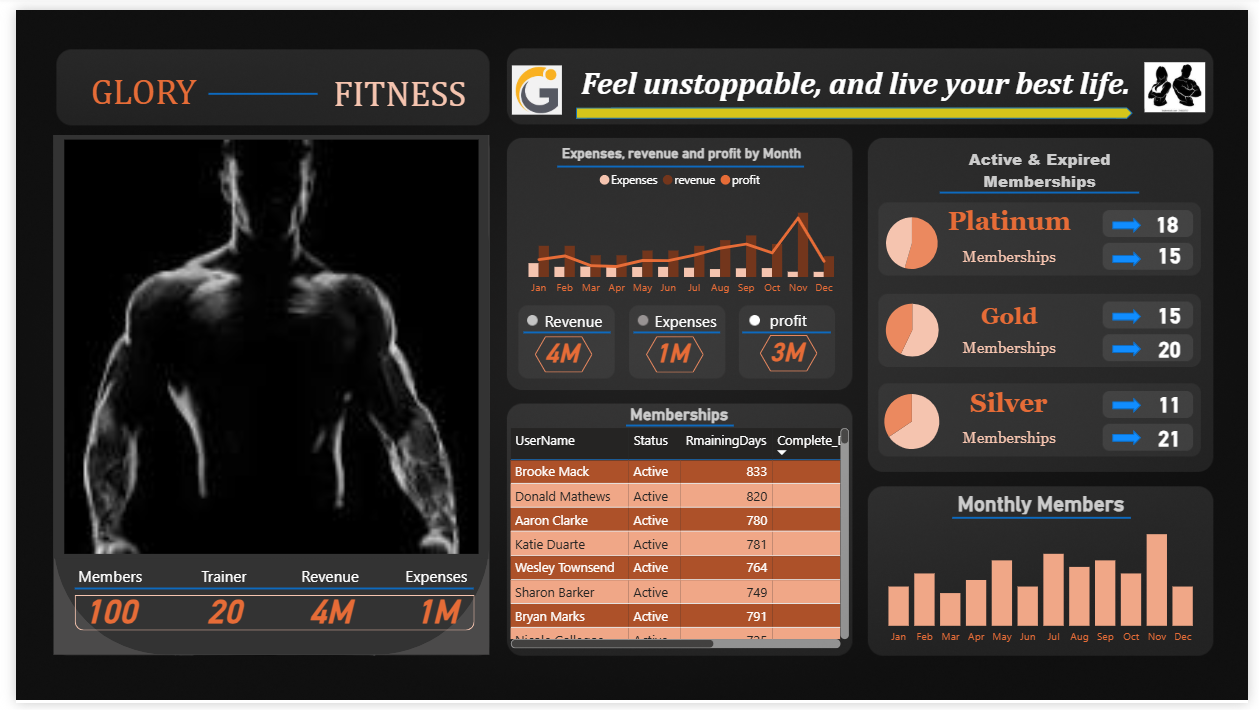

The dashboard page shown, as its layout file describes it:
{"tool":"powerbi","page":{"name":"Page 1","canvas":[1280,720],"ordinal":0},"visuals":[{"type":"cardVisual","fields":{"Data":["_Measures.revenue"]},"box":[532,295,96,81],"z":0},{"type":"shape","box":[1138.5,310,30,16.2],"z":0,"group":"g3"},{"type":"shape","box":[1138.5,402.3,30,16.2],"z":0,"group":"g4"},{"type":"cardVisual","fields":{"Data":["_Measures.users_count"]},"box":[45,550,105.3,118.5],"z":0,"group":"g2"},{"type":"cardVisual","fields":{"Data":["_Measures.users_count"]},"box":[48.3,550,105,95],"z":0,"group":"g1"},{"type":"cardVisual","fields":{"Data":["_Measures.Expenses"]},"box":[647.3,294.7,100,86.7],"z":1000},{"type":"shape","box":[1138.5,343.8,30,16.2],"z":1000,"group":"g3"},{"type":"shape","box":[1138.5,436.1,30,16.2],"z":1000,"group":"g4"},{"type":"cardVisual","fields":{"Data":["Count(Users.Trainer Name)"]},"box":[163.7,550,105.3,118.5],"z":1000,"group":"g2"},{"type":"cardVisual","fields":{"Data":["Count(Users.Trainer Name)"]},"box":[166.6,550,105,95],"z":1000,"group":"g1"},{"type":"cardVisual","fields":{"Data":["_Measures.profit"]},"box":[766,293,100,87],"z":2000},{"type":"cardVisual","fields":{"Data":["_Measures.revenue"]},"box":[273.8,550,105,118.1],"z":2000,"group":"g2"},{"type":"cardVisual","fields":{"Data":["_Measures.revenue"]},"box":[276.4,550,104.7,94.7],"z":2000,"group":"g1"},{"type":"lineClusteredColumnComboChart","fields":{"Y":["_Measures.Expenses","_Measures.revenue"],"Y2":["_Measures.profit"],"Category":["calender.Month"]},"box":[516.7,140.7,349.3,165.3],"z":3000},{"type":"cardVisual","fields":{"Data":["_Measures.Expenses"]},"box":[383.5,550,105.6,118.1],"z":3000,"group":"g2"},{"type":"cardVisual","fields":{"Data":["_Measures.Expenses"]},"box":[385.8,550,105.3,94.7],"z":3000,"group":"g1"},{"type":"group","id":"g1","title":"Group 1","box":[48.3,550,442.8,95],"z":4000},{"type":"shape","box":[38.6,130,452.9,540],"z":5000},{"type":"group","id":"g2","title":"Group 1","box":[45,550,445,120],"z":6000},{"type":"clusteredColumnChart","title":"Monthly Members","fields":{"Y":["_Measures.users_count"],"Category":["calender.Month"]},"box":[890.7,500,348,168],"z":7000},{"type":"shape","box":[562.9,152.1,256.4,21.4],"z":8000},{"type":"shape","box":[972.1,517.1,185.7,21.4],"z":9000},{"type":"tableEx","title":"Memberships","fields":{"Values":["Users.UserName","Users.Status","_Measures.RmainingDays","_Measures.Complete_Days","_Measures.Left_Days_Count","_Measures.Total_Days"]},"box":[507.5,410,362.5,257.5],"z":10000},{"type":"image","box":[38.9,130,452.2,440],"z":11000},{"type":"shape","box":[61.1,557.8,414.4,87.8],"z":12000},{"type":"shape","box":[61,607.5,415.5,37],"z":13000},{"type":"shape","box":[539.2,338.5,60,37.7],"z":14000},{"type":"shape","box":[654.2,338.4,60,37.9],"z":15000},{"type":"shape","box":[772.8,338,60,38],"z":16000},{"type":"shape","box":[526.7,324.7,90.7,20.7],"z":17000},{"type":"shape","box":[641.3,324.7,90,20.7],"z":18000},{"type":"shape","box":[754.7,324.7,92,20.7],"z":19000},{"type":"shape","box":[633.6,421.4,112.1,19.3],"z":20000},{"type":"textbox","box":[951.7,198.3,160,50],"z":21000},{"type":"textbox","box":[968.5,298.5,126.2,40],"z":22000},{"type":"textbox","box":[960,387.7,143.1,44.6],"z":23000},{"type":"textbox","box":[951.5,242.3,160,30],"z":24000},{"type":"textbox","box":[951.5,337.7,160,30],"z":25000},{"type":"textbox","box":[951.5,430.8,160,30],"z":26000},{"type":"pieChart","fields":{"Y":["_Measures.User_Platinum"],"Category":["Users.Status"]},"box":[890,204.3,82.9,77.1],"z":27000},{"type":"pieChart","fields":{"Y":["_Measures.User_Silver"],"Category":["Users.Status"]},"box":[877.1,387.1,108.6,81.4],"z":28000},{"type":"pieChart","fields":{"Y":["_Measures.User_Gold"],"Category":["Users.Status"]},"box":[885.7,292.9,91.4,78.6],"z":29000},{"type":"card","fields":{"Values":["_Measures.Platinum_Active"]},"box":[1168.6,195.7,54.3,52.9],"z":30000},{"type":"card","fields":{"Values":["_Measures.Platinum_Expired"]},"box":[1171.4,228.6,54.3,52.9],"z":31000},{"type":"card","fields":{"Values":["_Measures.Gold_Active"]},"box":[1171.4,291.4,54.3,52.9],"z":32000},{"type":"card","fields":{"Values":["_Measures.Gold_Expired"]},"box":[1171.4,325.7,54.3,52.9],"z":33000},{"type":"card","fields":{"Values":["_Measures.Silver_Active"]},"box":[1171.4,382.9,54.3,52.9],"z":34000},{"type":"card","fields":{"Values":["_Measures.Silver_Expired"]},"box":[1171.5,417.7,53.8,53.1],"z":35000},{"type":"shape","box":[1138.5,215.4,30,16.2],"z":36000},{"type":"shape","box":[1138.5,250,30,16.2],"z":37000},{"type":"group","id":"g3","title":"Group 2","box":[1138.5,310,30,50],"z":38000},{"type":"group","id":"g4","title":"Group 2","box":[1138.5,402.3,30,50],"z":39000},{"type":"textbox","box":[928.8,138.8,270,57.5],"z":40000},{"type":"shape","box":[960,175,207.5,28.8],"z":41000},{"type":"textbox","box":[307.5,59.2,181.7,55],"z":42000},{"type":"shape","box":[200,77.5,113.3,18.3],"z":43000},{"type":"image","box":[1168.2,45.5,72.7,69.1],"z":44000},{"type":"textbox","box":[550,51.7,643.3,63.3],"z":45000},{"type":"textbox","box":[45,57.5,174.2,56.7],"z":46000},{"type":"image","box":[510.6,51.7,61.7,62.8],"z":47000},{"type":"shape","box":[581.7,101.7,578.3,11.7],"z":48000}]}

Visuals, with their boxes in screenshot pixels (x1, y1, x2, y2), scaled from the page's 1280x720 canvas onto the 1259x710 screenshot:
cardVisual - _Measures.revenue: region(523, 291, 618, 371)
shape: region(1120, 306, 1149, 322)
shape: region(1120, 397, 1149, 413)
cardVisual - _Measures.users_count: region(44, 542, 148, 659)
cardVisual - _Measures.users_count: region(48, 542, 151, 636)
cardVisual - _Measures.Expenses: region(637, 291, 735, 376)
shape: region(1120, 339, 1149, 355)
shape: region(1120, 430, 1149, 446)
cardVisual - Count(Users.Trainer Name): region(161, 542, 265, 659)
cardVisual - Count(Users.Trainer Name): region(164, 542, 267, 636)
cardVisual - _Measures.profit: region(753, 289, 852, 375)
cardVisual - _Measures.revenue: region(269, 542, 373, 659)
cardVisual - _Measures.revenue: region(272, 542, 375, 636)
lineClusteredColumnComboChart - _Measures.Expenses x _Measures.revenue: region(508, 139, 852, 302)
cardVisual - _Measures.Expenses: region(377, 542, 481, 659)
cardVisual - _Measures.Expenses: region(379, 542, 483, 636)
"Group 1" group: region(48, 542, 483, 636)
shape: region(38, 128, 483, 661)
"Group 1" group: region(44, 542, 482, 661)
"Monthly Members" clusteredColumnChart: region(876, 493, 1218, 659)
shape: region(554, 150, 806, 171)
shape: region(956, 510, 1139, 531)
"Memberships" tableEx: region(499, 404, 856, 658)
image: region(38, 128, 483, 562)
shape: region(60, 550, 468, 637)
shape: region(60, 599, 469, 636)
shape: region(530, 334, 589, 371)
shape: region(643, 334, 702, 371)
shape: region(760, 333, 819, 371)
shape: region(518, 320, 607, 341)
shape: region(631, 320, 719, 341)
shape: region(742, 320, 833, 341)
shape: region(623, 416, 733, 435)
textbox: region(936, 196, 1093, 245)
textbox: region(953, 294, 1077, 334)
textbox: region(944, 382, 1085, 426)
textbox: region(936, 239, 1093, 269)
textbox: region(936, 333, 1093, 363)
textbox: region(936, 425, 1093, 454)
pieChart - _Measures.User_Platinum x Users.Status: region(875, 201, 957, 277)
pieChart - _Measures.User_Silver x Users.Status: region(863, 382, 970, 462)
pieChart - _Measures.User_Gold x Users.Status: region(871, 289, 961, 366)
card - _Measures.Platinum_Active: region(1149, 193, 1203, 245)
card - _Measures.Platinum_Expired: region(1152, 225, 1206, 278)
card - _Measures.Gold_Active: region(1152, 287, 1206, 340)
card - _Measures.Gold_Expired: region(1152, 321, 1206, 373)
card - _Measures.Silver_Active: region(1152, 378, 1206, 430)
card - _Measures.Silver_Expired: region(1152, 412, 1205, 464)
shape: region(1120, 212, 1149, 228)
shape: region(1120, 247, 1149, 263)
"Group 2" group: region(1120, 306, 1149, 355)
"Group 2" group: region(1120, 397, 1149, 446)
textbox: region(914, 137, 1179, 194)
shape: region(944, 173, 1148, 201)
textbox: region(302, 58, 481, 113)
shape: region(197, 76, 308, 94)
image: region(1149, 45, 1221, 113)
textbox: region(541, 51, 1174, 113)
textbox: region(44, 57, 216, 113)
image: region(502, 51, 563, 113)
shape: region(572, 100, 1141, 112)
